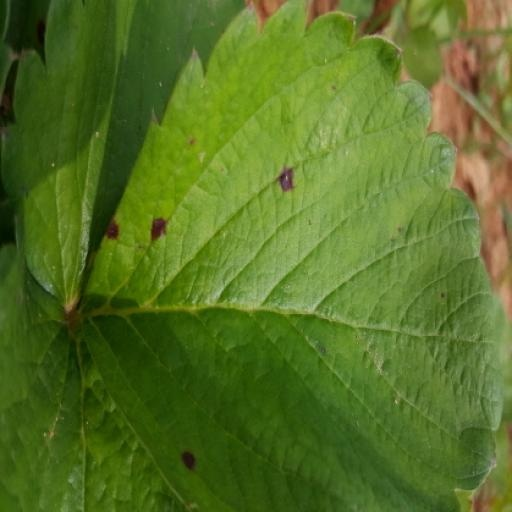Leaf Spot: (10, 0, 436, 511)
